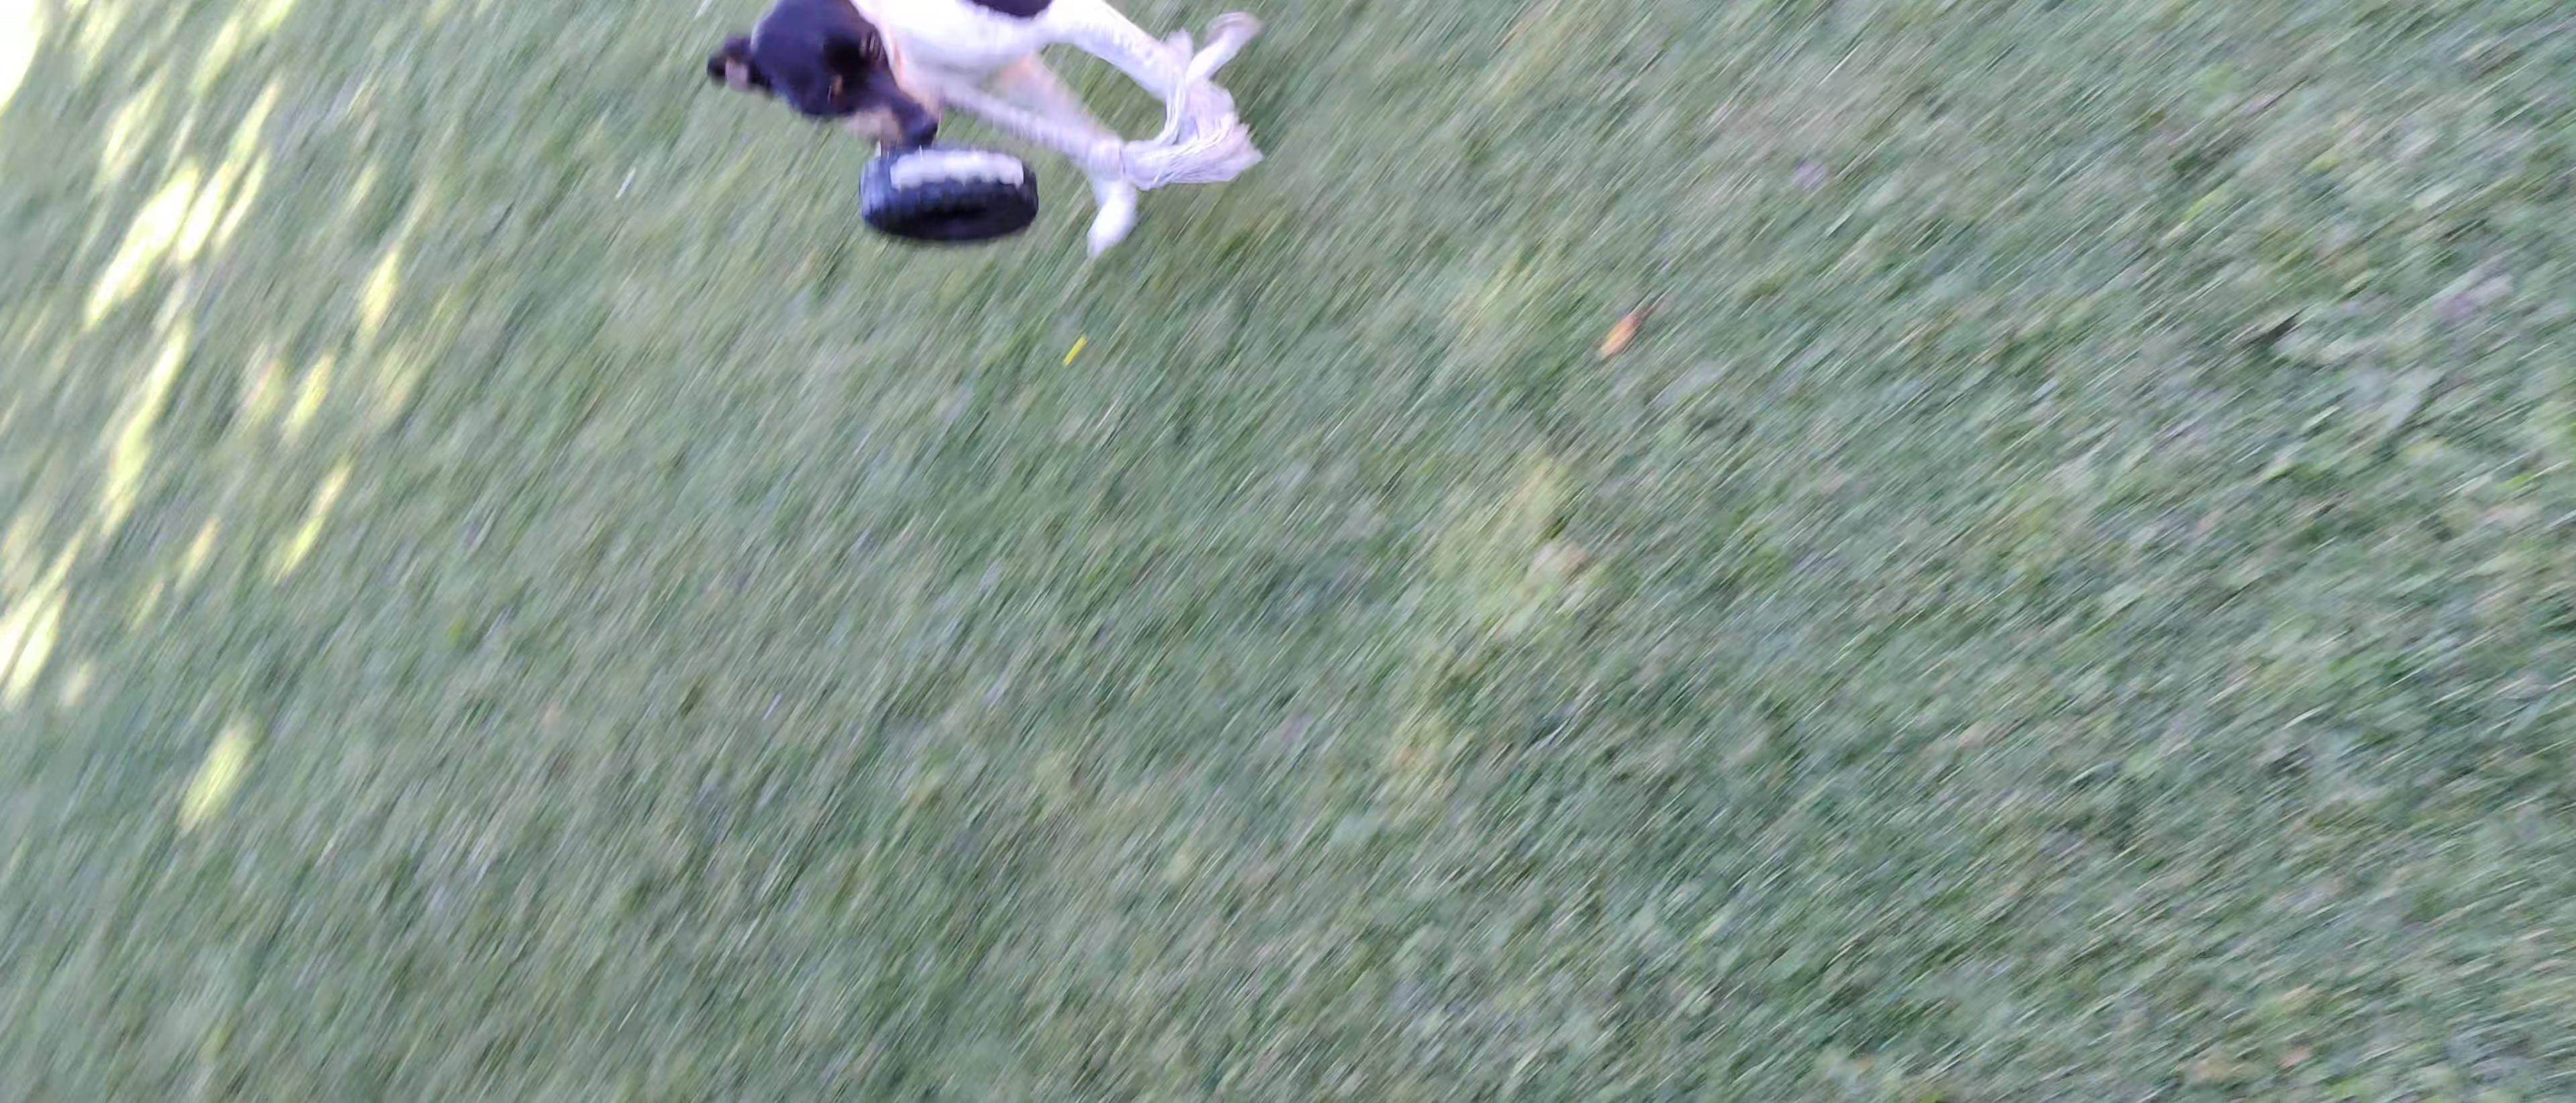Dog: (678, 0, 1278, 266)
